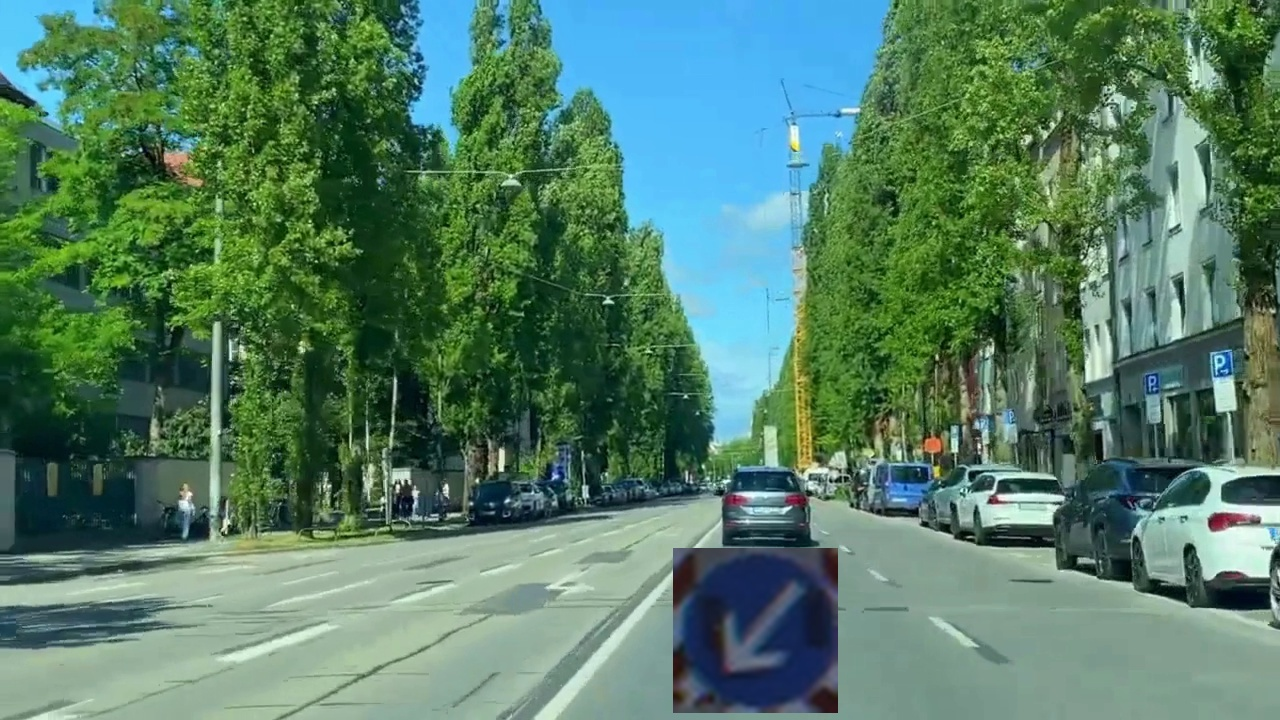Keep left: (673, 548, 838, 713)
